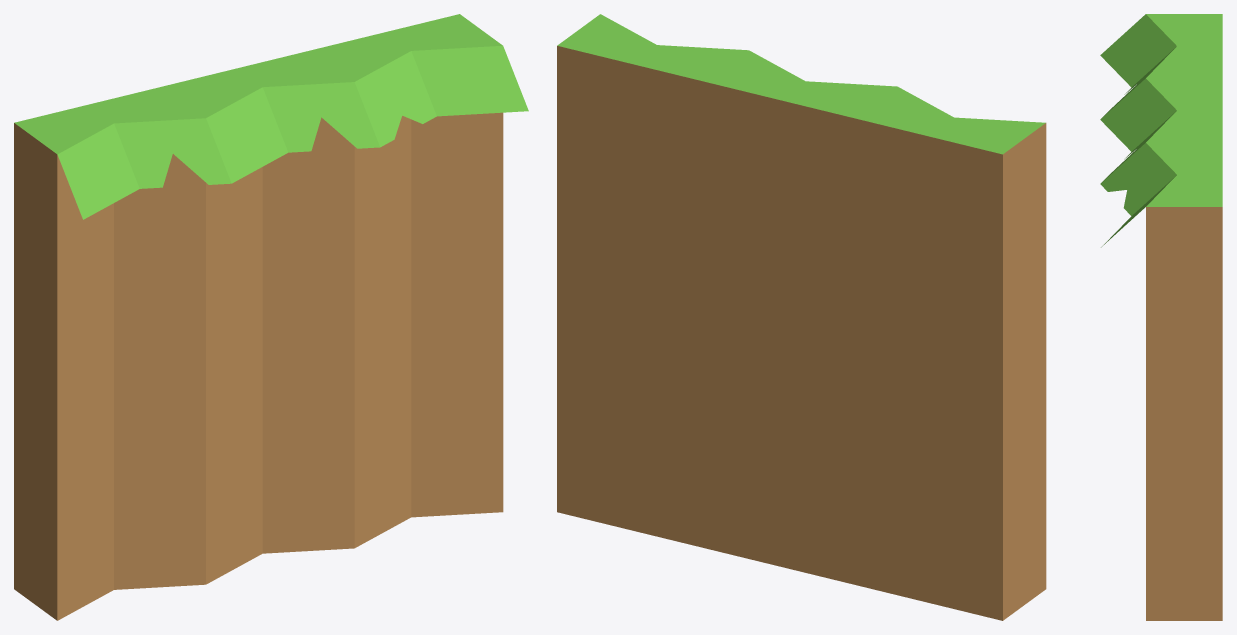
File: cliff-wall-top.glb
3 views of the same model, side by side, from view 1: azimuth 30°, elevation 25°; view 2: azimuth 150°, elevation 25°; view 3: azimuth 270°, elevation 25° (orthographic). The views are drawn at different scales.
Visible parts, largest first — view 1: cliff_top_rock; view 2: cliff_top_rock; view 3: cliff_top_rock.
Boxes of the visible parts, x1,y1,x2,y2 form: cliff_top_rock: [14, 14, 528, 620]; cliff_top_rock: [557, 14, 1046, 620]; cliff_top_rock: [1100, 14, 1222, 620].
Size of the model in its own units: 4 by 4 by 1.07.
